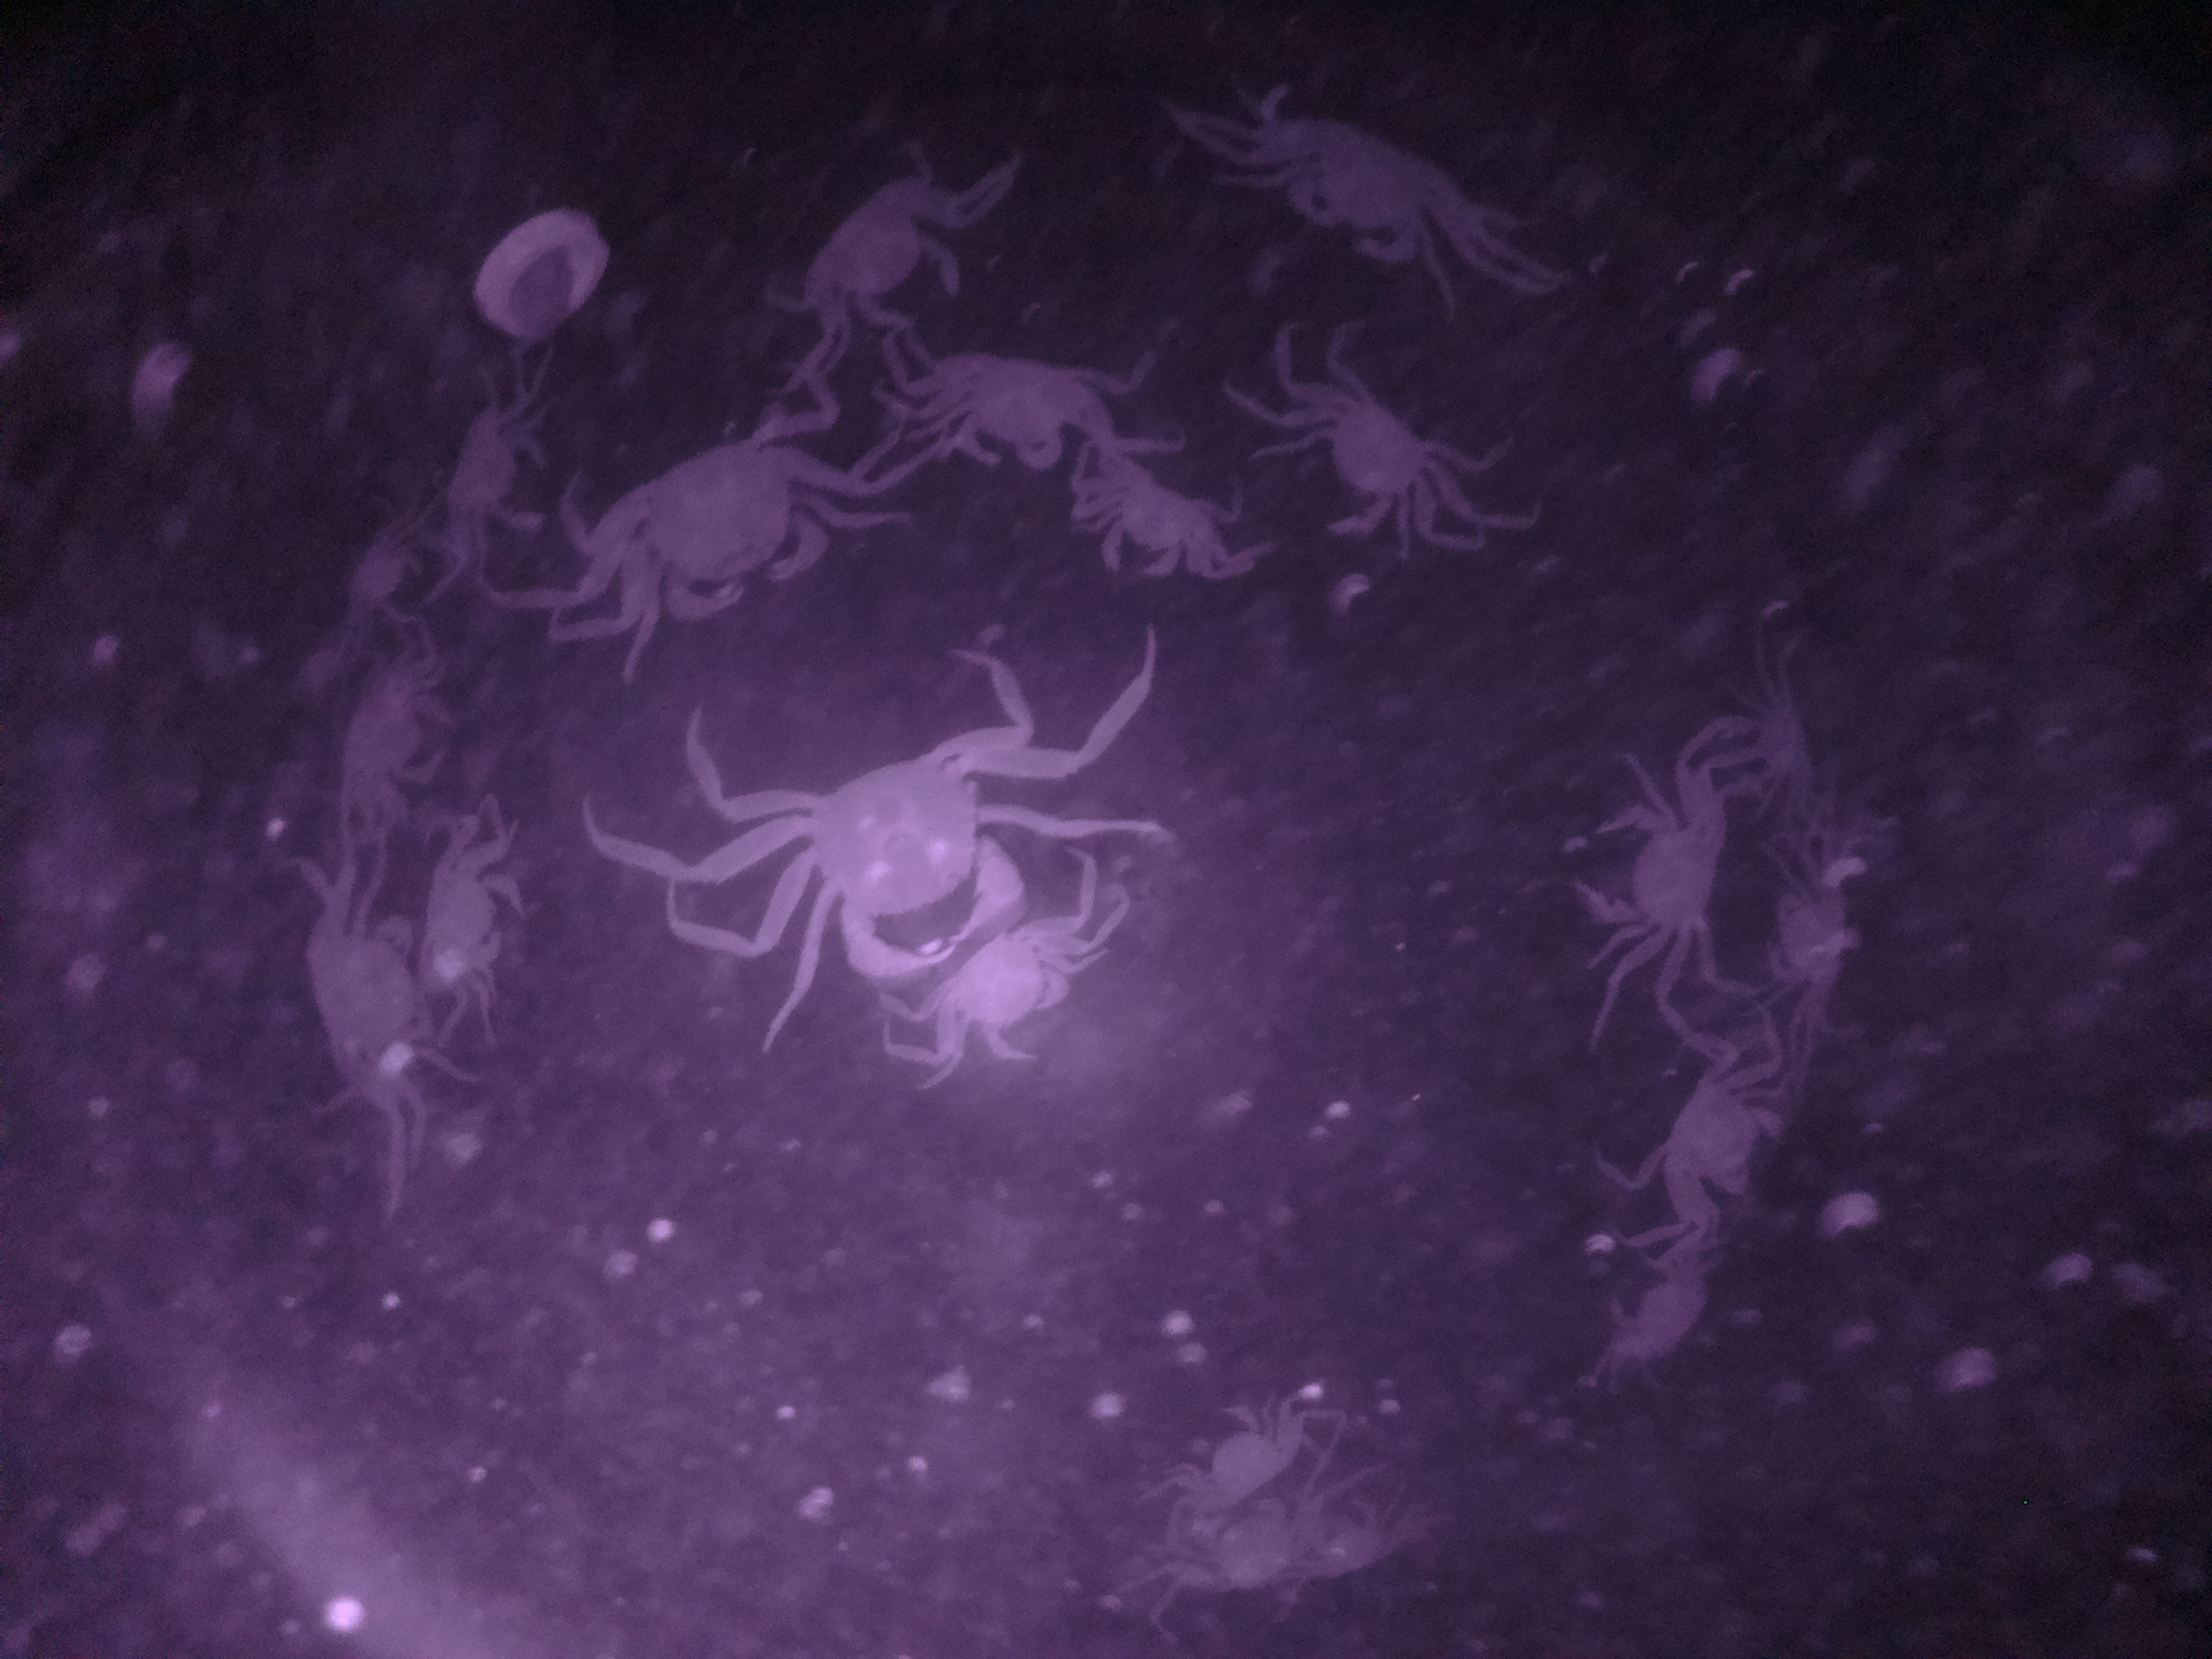Crab: (779, 732, 1043, 990), (578, 408, 834, 650), (1252, 106, 1517, 272), (1550, 788, 1745, 976), (1249, 385, 1463, 542), (1629, 1046, 1796, 1239), (913, 917, 1101, 1073), (792, 179, 974, 338), (918, 343, 1118, 472), (317, 659, 474, 823), (409, 826, 535, 1016), (1066, 464, 1244, 587), (1158, 1385, 1315, 1518), (425, 394, 561, 542)
